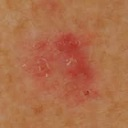Carcinoma: (25, 32, 90, 83)
